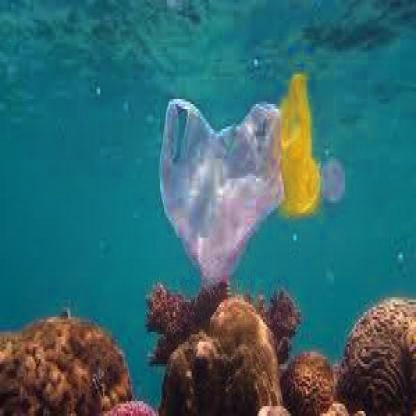pbag: (149, 84, 288, 290), (274, 57, 321, 228)
